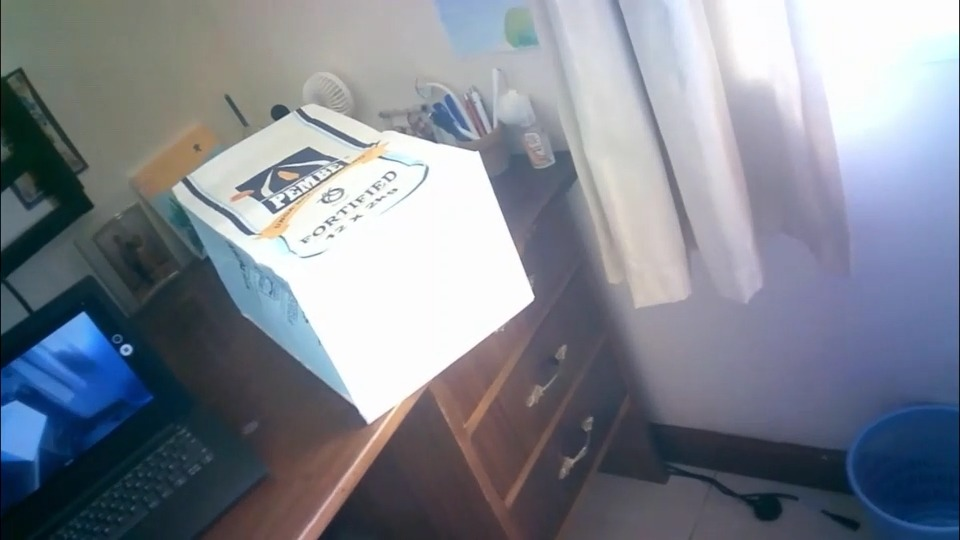wheat_flour_blue_label: (171, 104, 535, 423)
